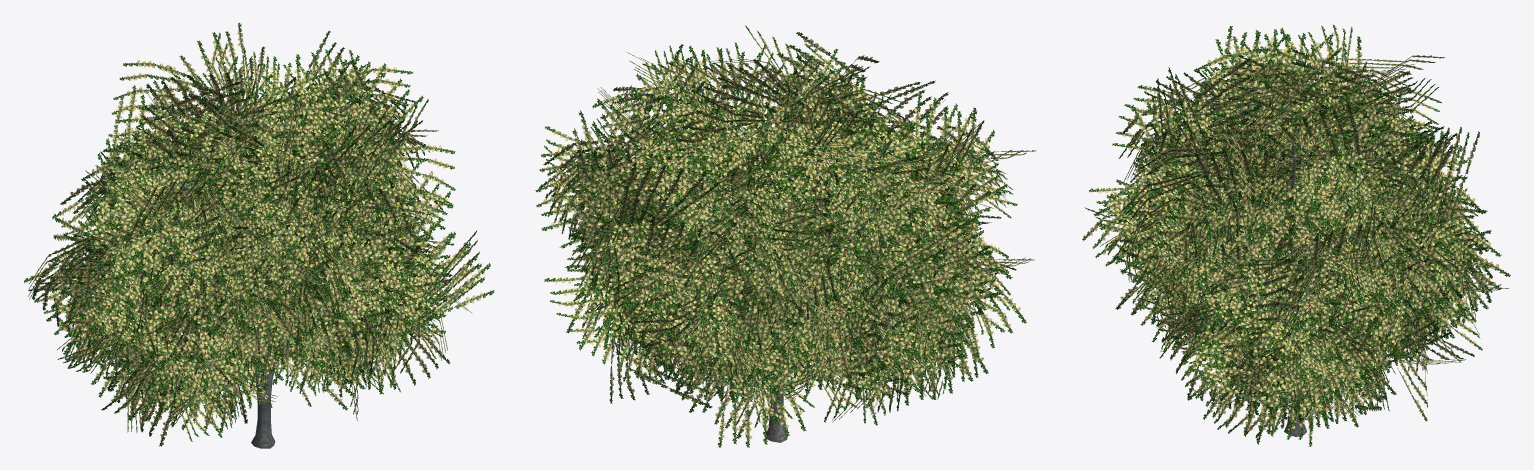
File: Parkinsonia_Aculeata_Spring_Adult.glb
3 views of the same model, side by side, from view 1: azimuth 30°, elevation 25°; view 2: azimuth 150°, elevation 25°; view 3: azimuth 270°, elevation 25° (orthographic). The views are drawn at different scales.
Visible parts, largest first — view 1: Parkinsonia_Aculeata_Spring_Adult__LOD3; view 2: Parkinsonia_Aculeata_Spring_Adult__LOD3; view 3: Parkinsonia_Aculeata_Spring_Adult__LOD3.
Part boxes in pixels (bbox=[...]): Parkinsonia_Aculeata_Spring_Adult__LOD3: bbox=[24, 23, 494, 448]; Parkinsonia_Aculeata_Spring_Adult__LOD3: bbox=[535, 25, 1035, 447]; Parkinsonia_Aculeata_Spring_Adult__LOD3: bbox=[1082, 24, 1510, 446].
Bounding box in the file's own units: 9.93 × 8.31 × 8.51.
2 materials, 2 textured.
